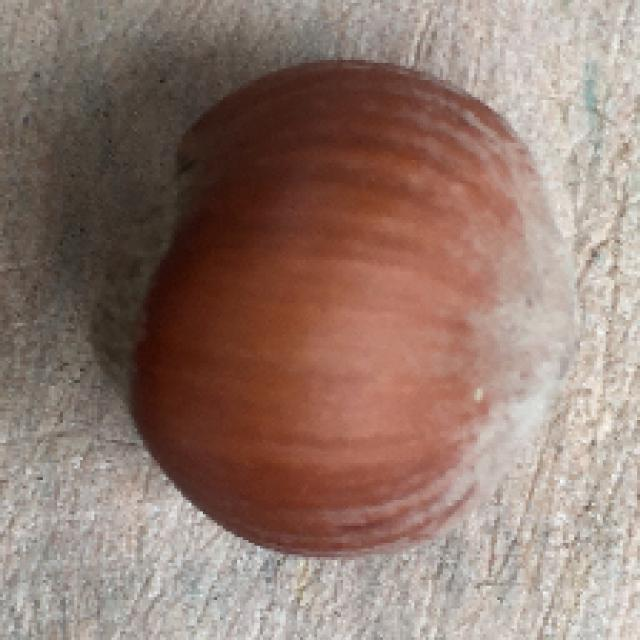qualityHazelnut: (101, 59, 584, 558)
